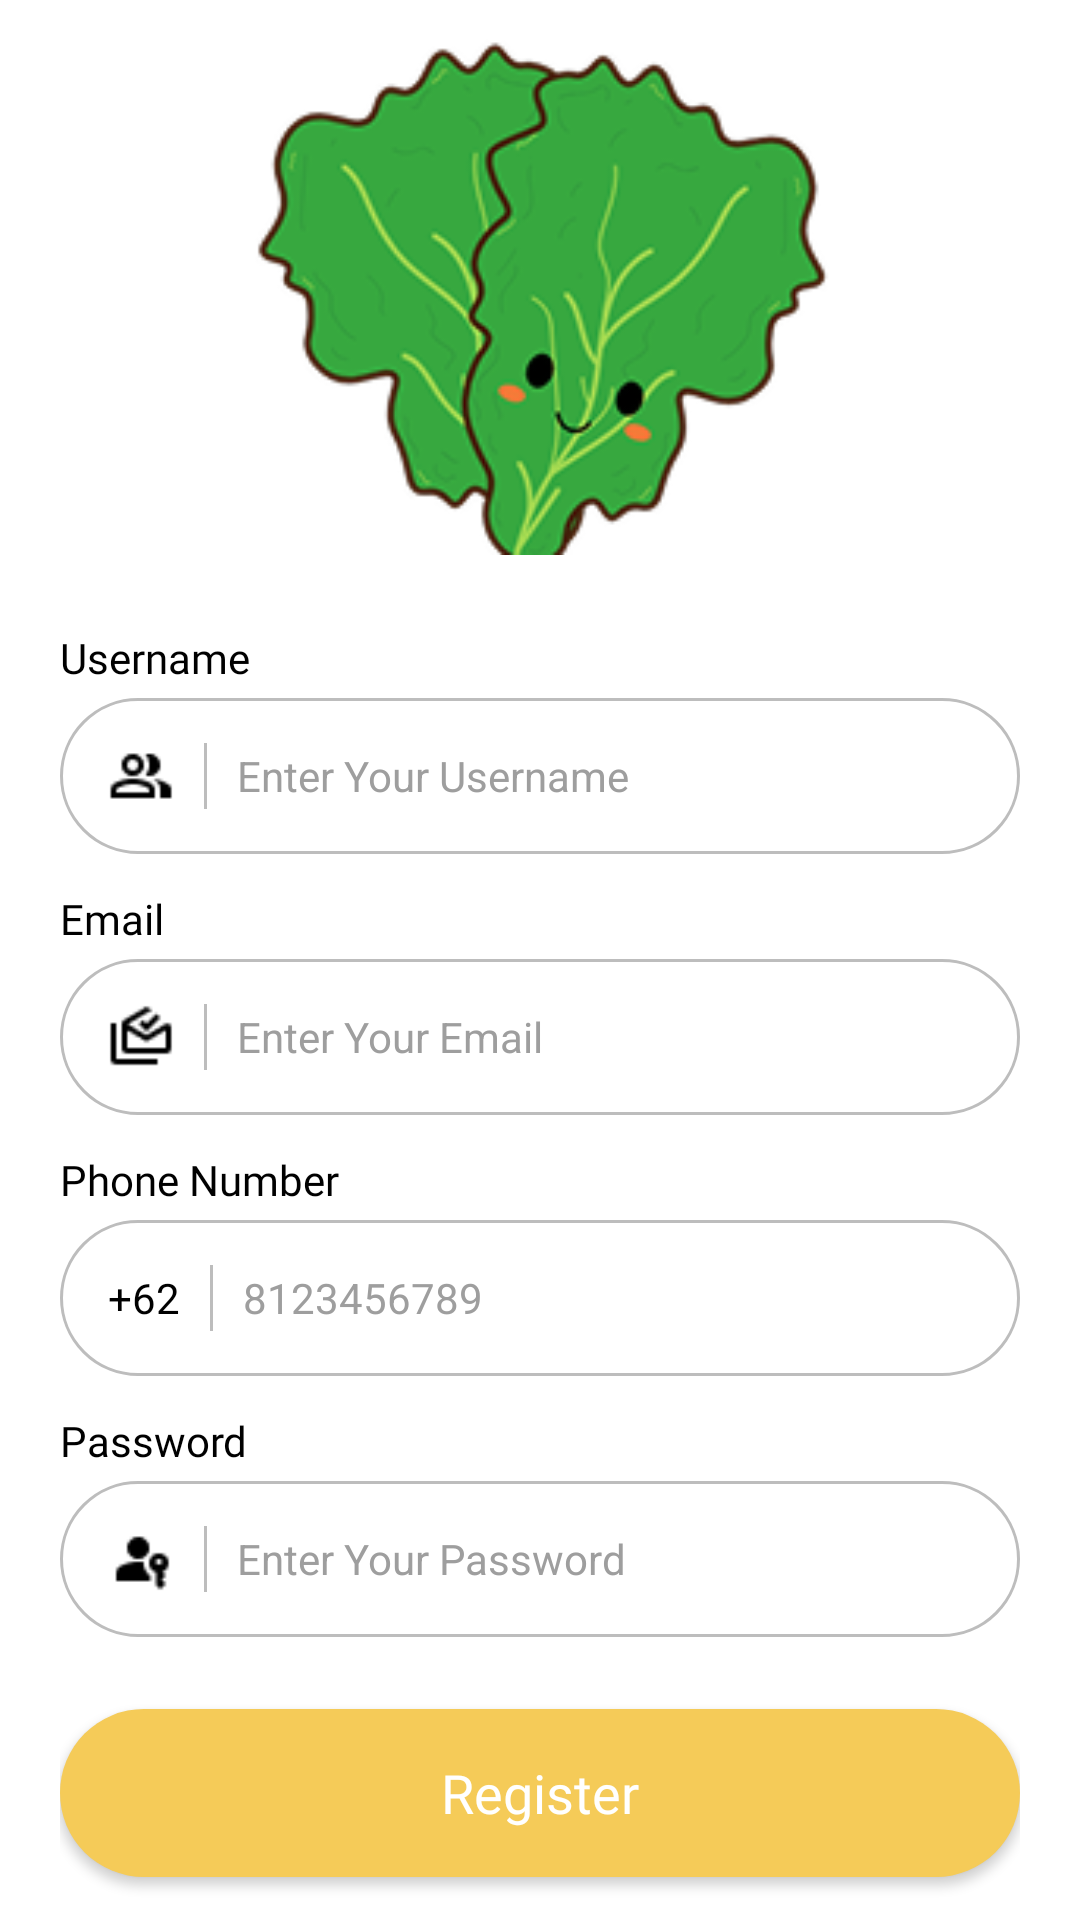

Icons on this 1080x1920 Android screen, each with the point to tap as (x=x, y=y):
notification multiple: (x=141, y=1036)
passkey: (x=142, y=1563)
